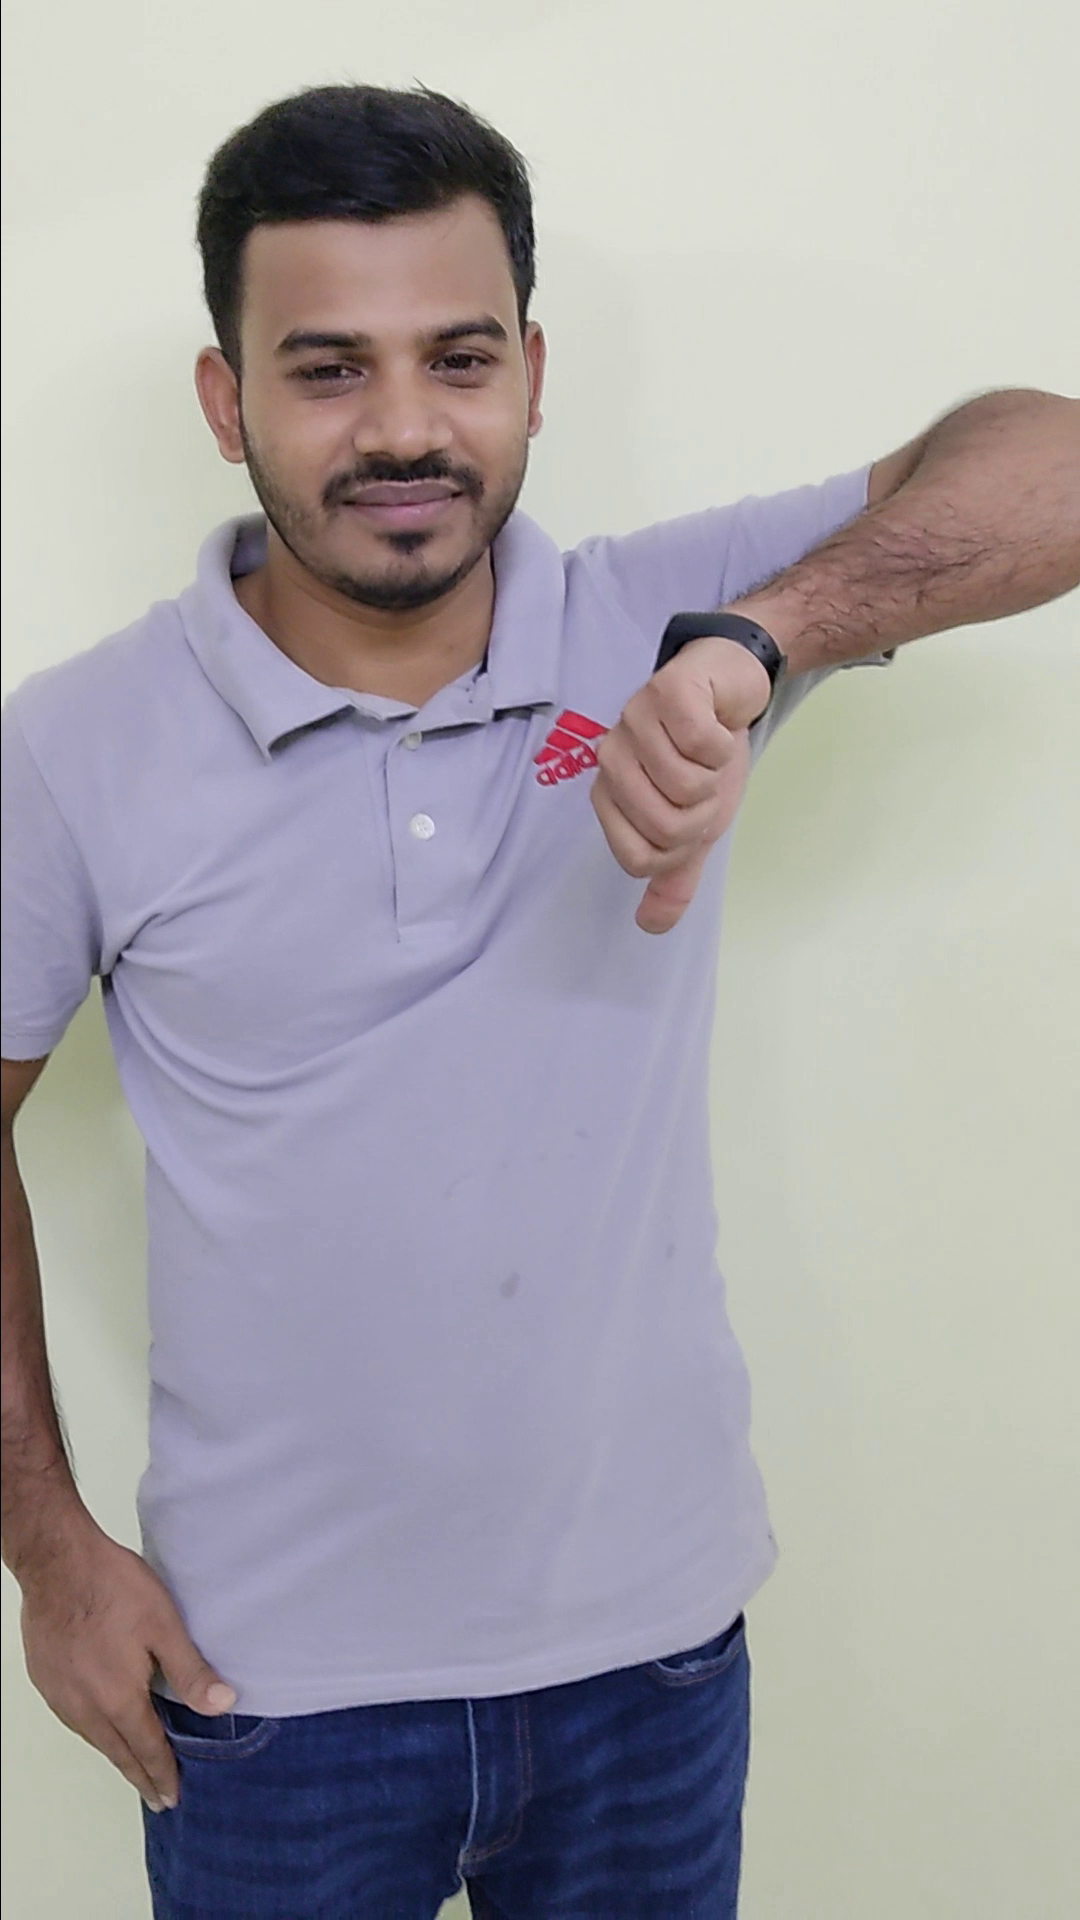Dislike: (572, 571, 799, 945)
None: (3, 1513, 261, 1824)
